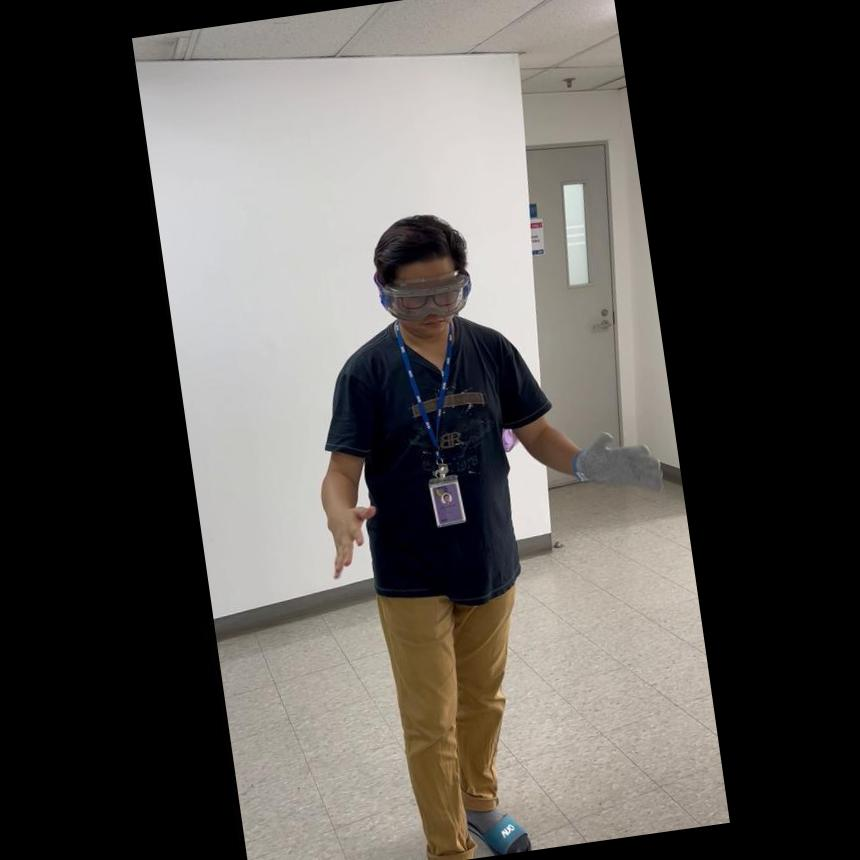Gloves: (566, 417, 662, 502)
No-gloves: (316, 492, 382, 580)
